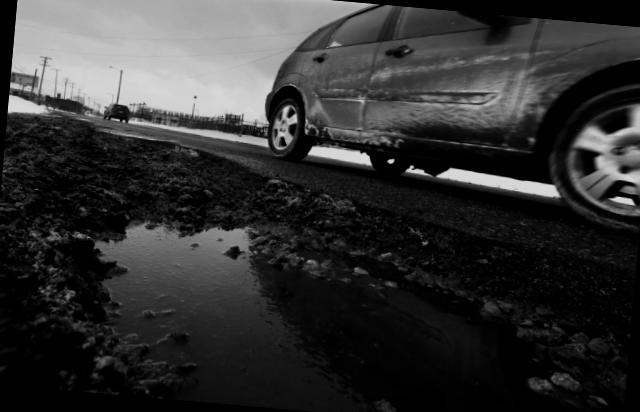Pothole: (0, 178, 613, 412)
